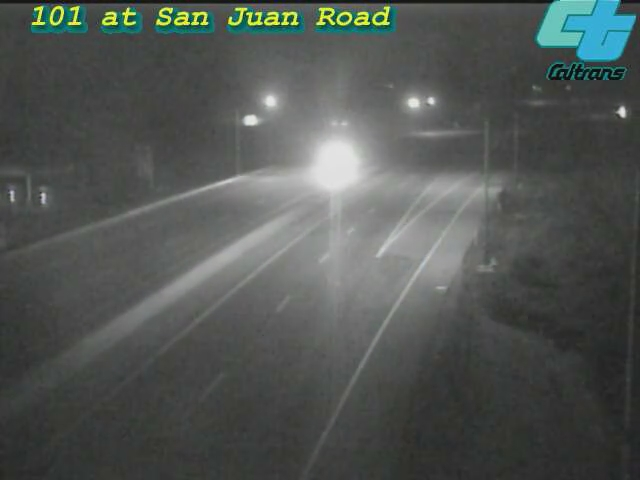vehicle: (286, 128, 366, 208), (596, 87, 640, 137)
